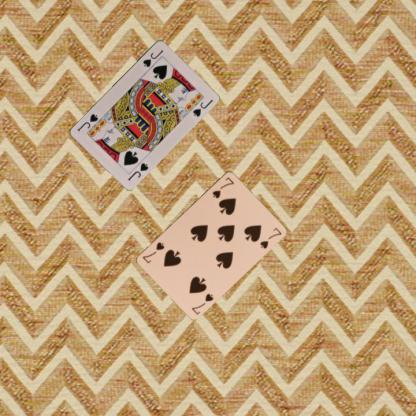7s: (189, 290, 215, 315), (210, 174, 235, 199)
Js: (124, 160, 150, 182), (140, 47, 165, 68)
